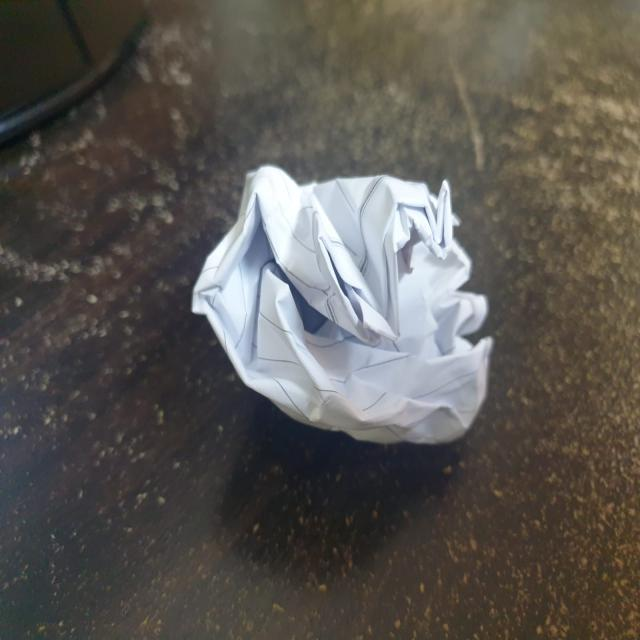Paper: (196, 167, 491, 441)
